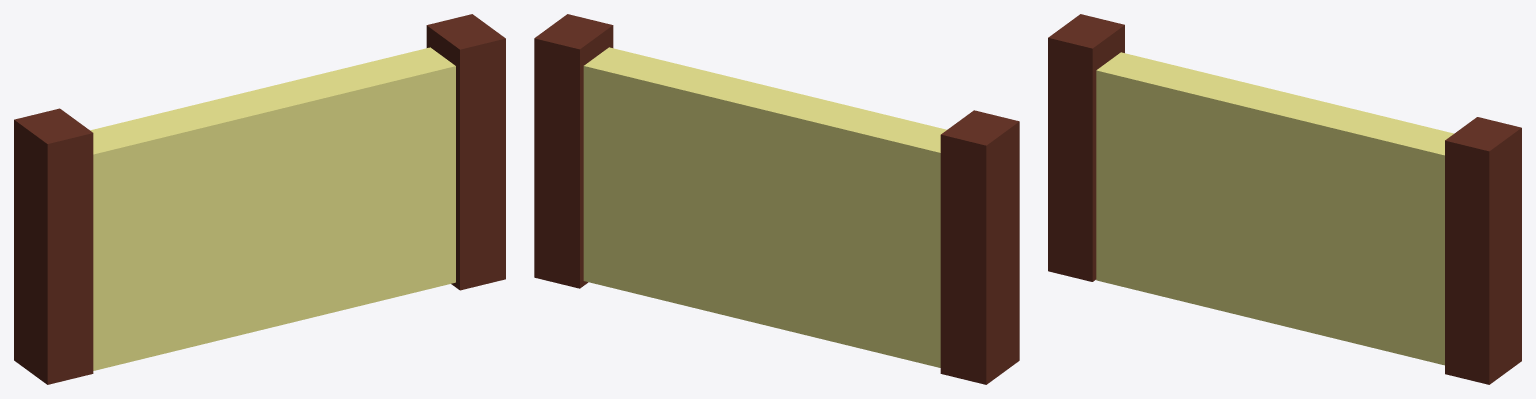
The model's file is tembokrev.fbx.
3 renders of one model, left to right at view 1: azimuth 30°, elevation 25°; view 2: azimuth 150°, elevation 25°; view 3: azimuth 330°, elevation 25°, orthographic. The views are drawn at different scales.
Visible parts, largest first — view 1: Cube, Cube.001, Cube.002; view 2: Cube, Cube.001, Cube.002; view 3: Cube, Cube.002, Cube.001.
Boxes of the visible parts, x1,y1,x2,y2 form: Cube: [90, 47, 455, 370]; Cube.001: [14, 108, 93, 384]; Cube.002: [426, 14, 505, 290]; Cube: [583, 47, 946, 367]; Cube.001: [940, 110, 1019, 384]; Cube.002: [534, 14, 613, 288]; Cube: [1096, 52, 1453, 365]; Cube.002: [1445, 117, 1521, 384]; Cube.001: [1048, 14, 1124, 281].
Bounding box in the file's own units: 732 × 376 × 97.53.
